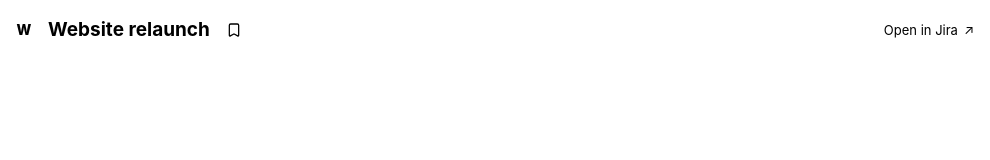
it: Header › renaming from the title › keeps the name when the rename is canceled
Click the button "Website relaunch". click: (129, 30)
box: [48,17,210,43]
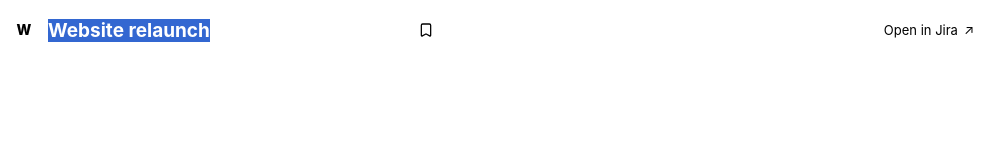
Type "Other" into the field named "Space name". click: (222, 30)
box: [42,15,402,45]
Then press Escape
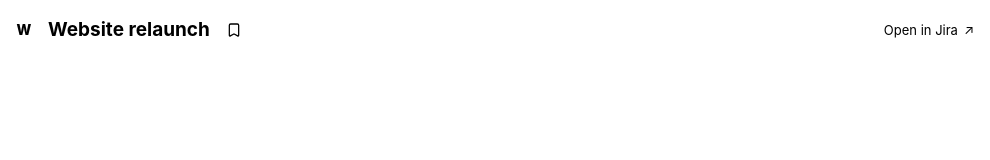
Expected: the heading "Website relaunch" is shown, [48,17,210,43]
